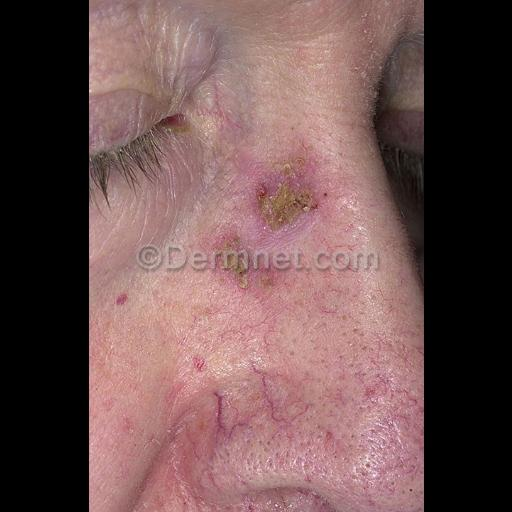Skin_Lesion: (249, 163, 319, 233), (332, 444, 398, 510), (231, 425, 293, 481), (208, 234, 260, 290), (182, 312, 210, 380), (112, 284, 128, 318)
